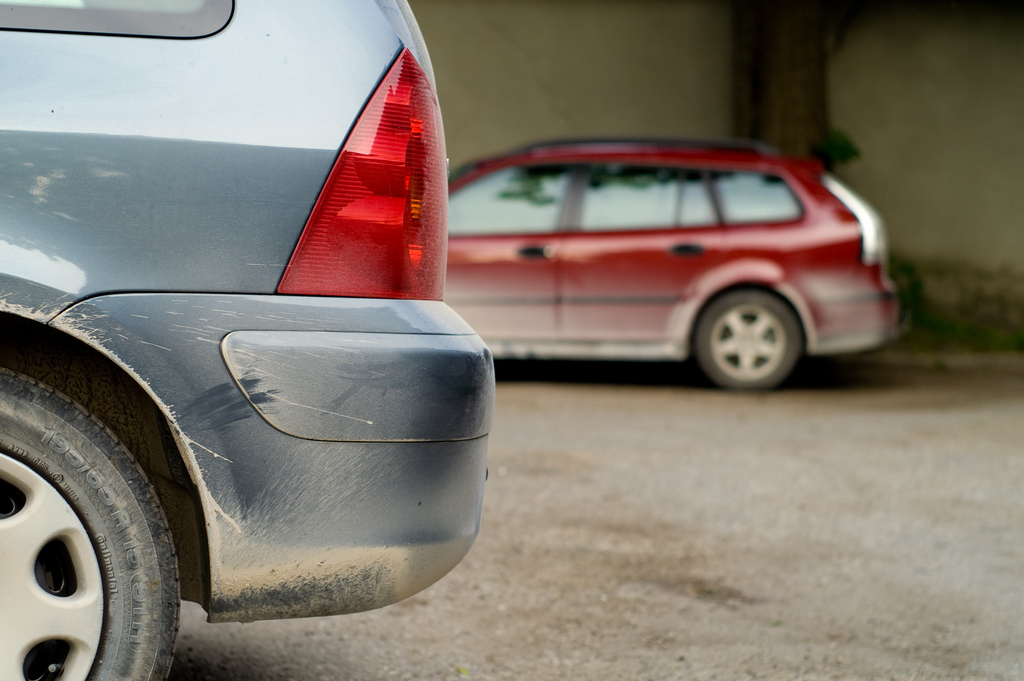Car: (0, 0, 493, 680), (439, 135, 902, 390)
